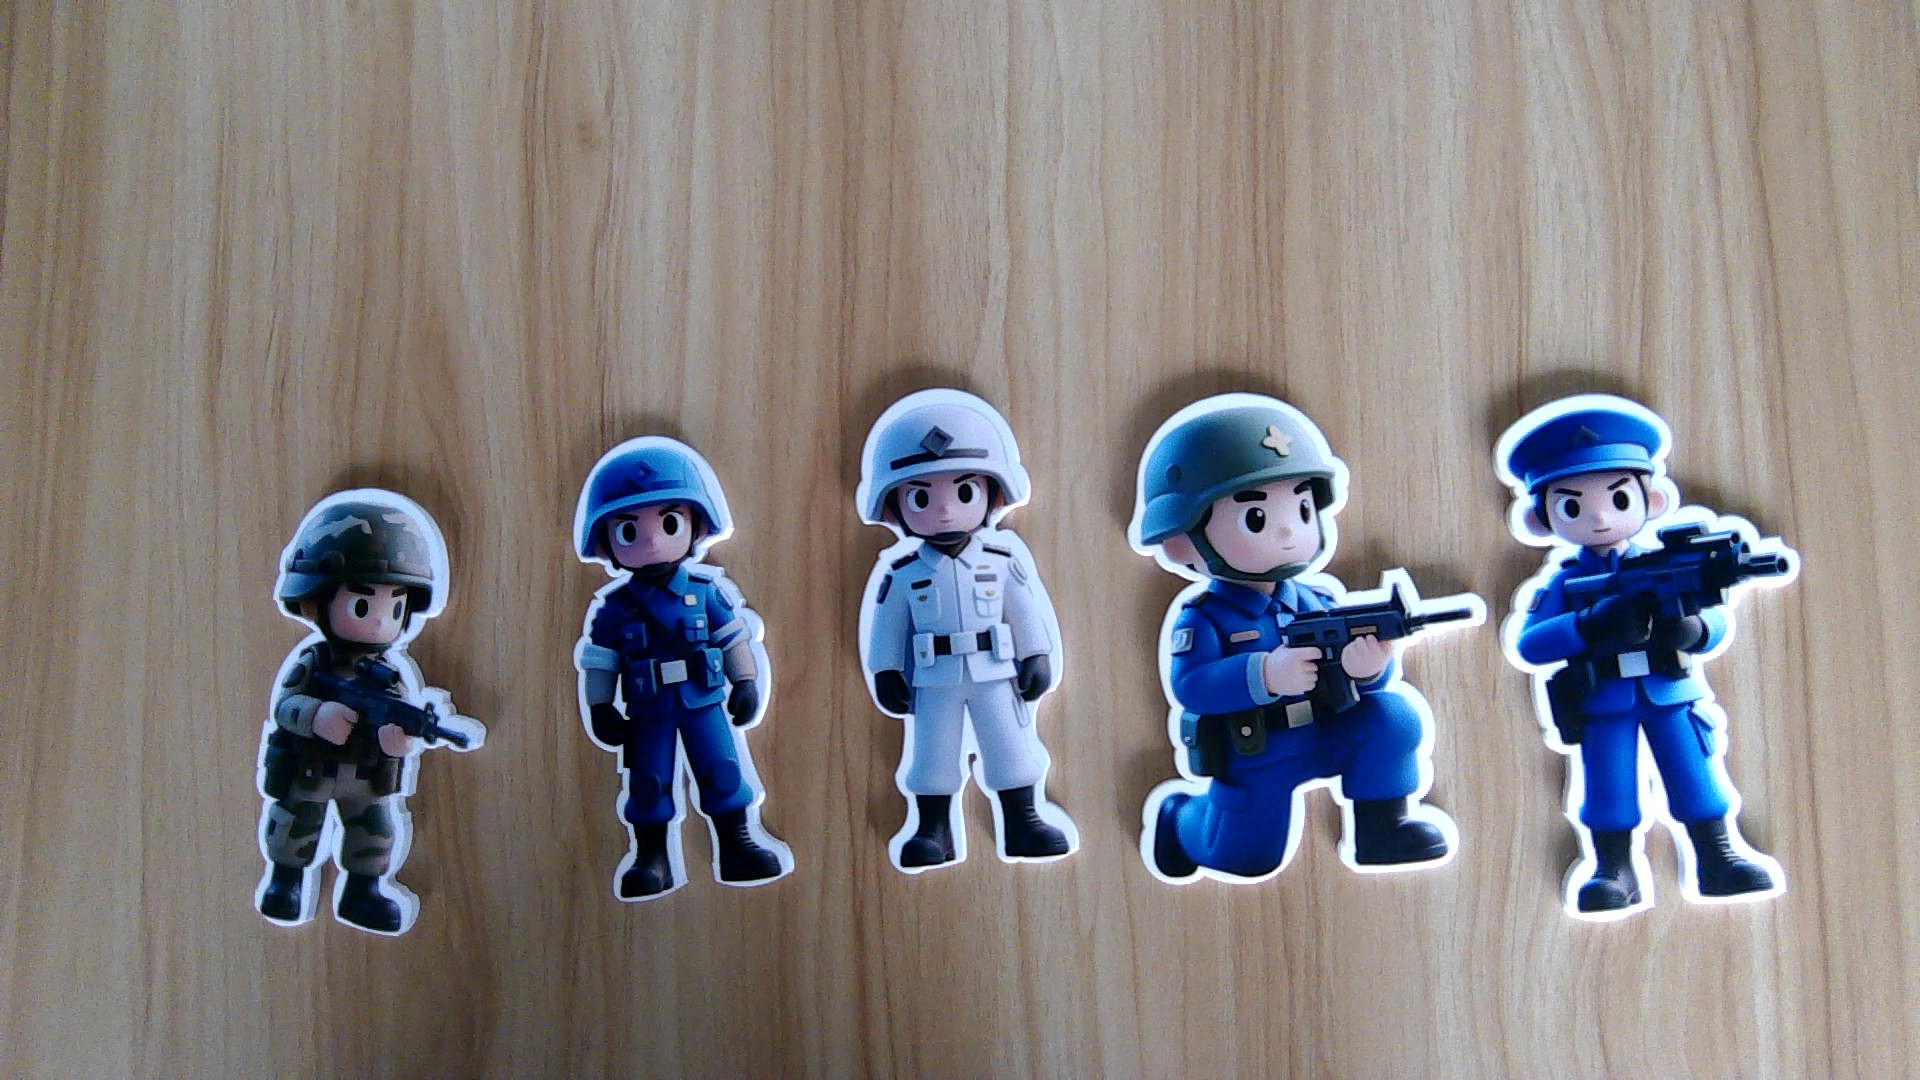人质: (851, 541, 1079, 873)
友军: (245, 651, 476, 936)
敌人2: (1495, 546, 1822, 920), (1135, 585, 1487, 891), (572, 570, 800, 903)
